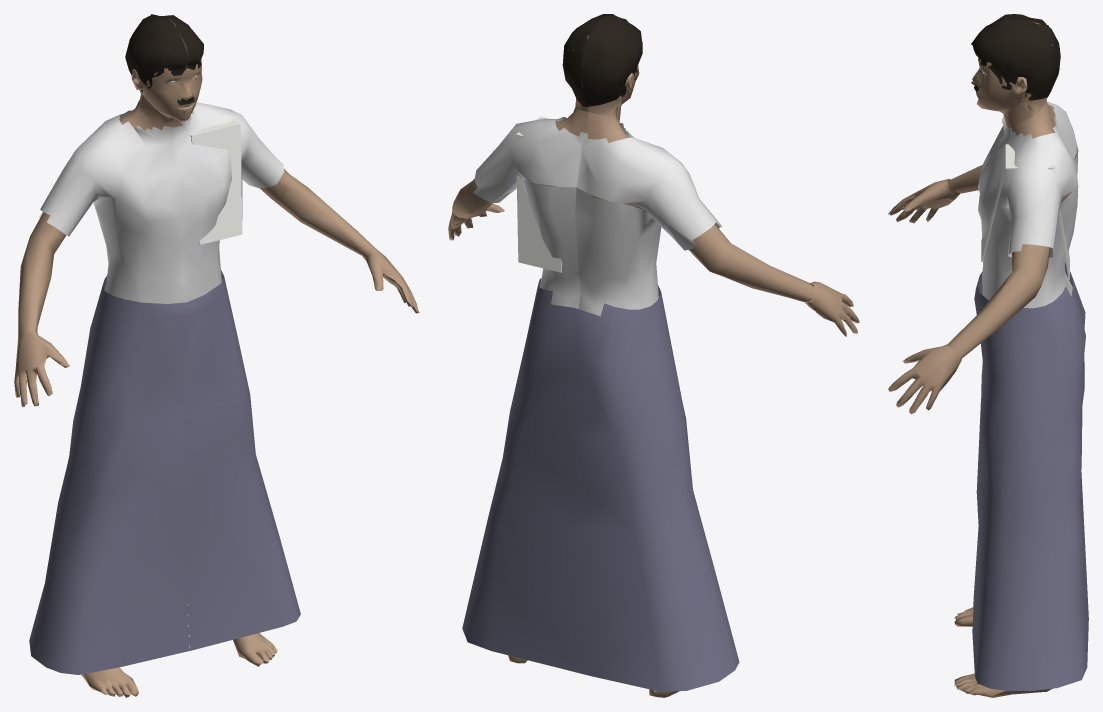
The model's file is man_03.glb.
3 renders of one model, left to right at view 1: azimuth 30°, elevation 25°; view 2: azimuth 150°, elevation 25°; view 3: azimuth 270°, elevation 25°, orthographic. The views are drawn at different scales.
Parts seen in each view (by area): view 1: crowd; view 2: crowd; view 3: crowd.
Part boxes in pixels (left/top/right/bottom): crowd: left=14, top=14, right=419, bottom=697; crowd: left=448, top=14, right=859, bottom=697; crowd: left=888, top=14, right=1088, bottom=697.
Size of the model in its own units: 1.13 by 1.75 by 0.4979.
